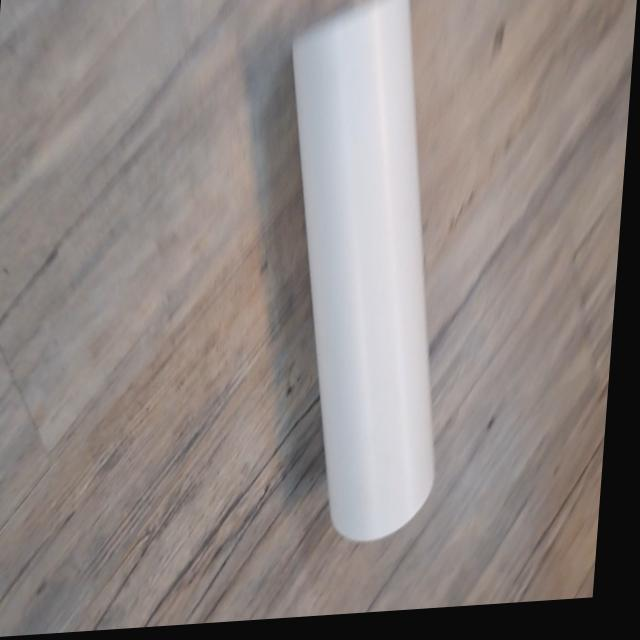CORAL: (247, 0, 496, 563)
